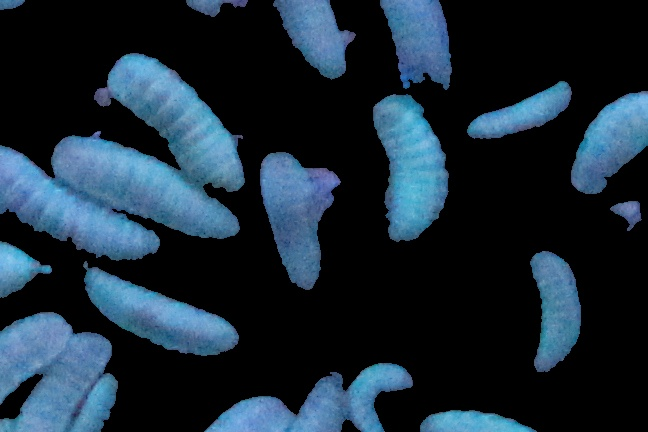larvae: (97, 56, 246, 194), (53, 135, 240, 237), (1, 148, 158, 258), (85, 268, 238, 355), (374, 94, 450, 242), (18, 334, 111, 432), (260, 151, 321, 289), (571, 92, 648, 195), (377, 1, 455, 90), (462, 80, 571, 141), (1, 313, 72, 403), (528, 249, 580, 371), (271, 1, 352, 78), (343, 358, 416, 432), (418, 404, 540, 432), (205, 395, 294, 432), (299, 374, 350, 432), (69, 376, 118, 432)
